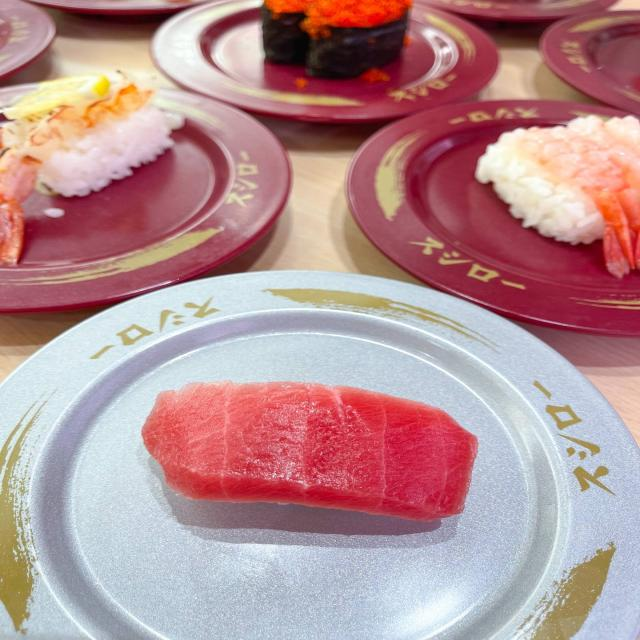janred: (311, 111, 640, 330), (2, 93, 296, 300), (142, 7, 496, 103), (521, 7, 640, 98), (28, 0, 205, 32), (0, 1, 53, 88), (418, 0, 613, 21)
janwoven: (43, 293, 598, 640)
